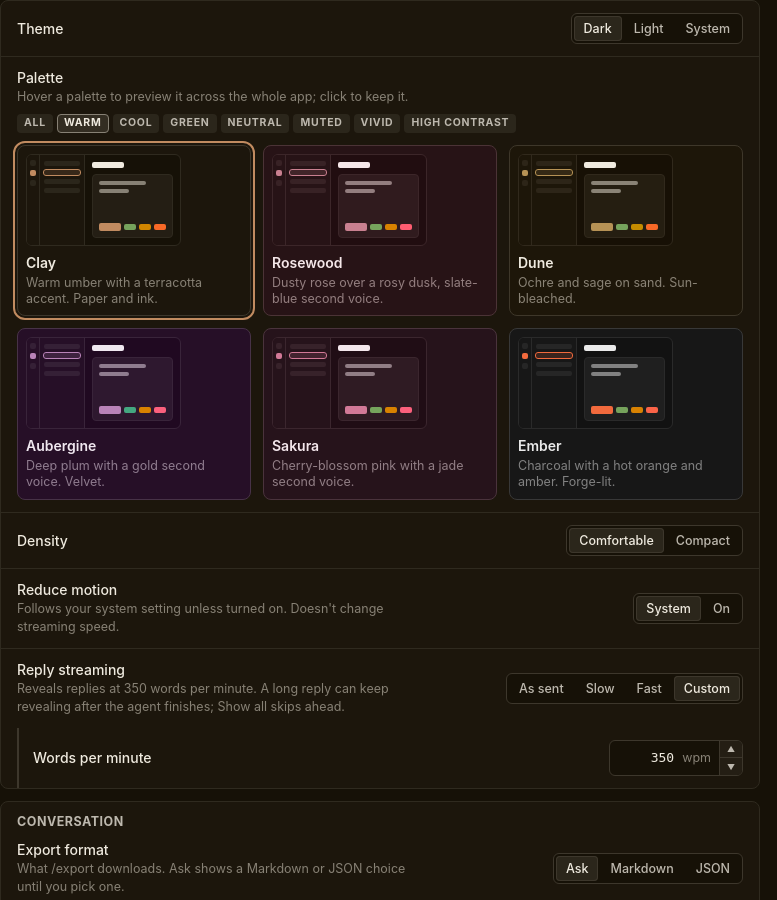
Test: AppearanceSection › saves a custom pace on blur, clamped to the contract's bounds
The width and height of the screenshot is (777, 900).
Step 1. Replace the text in the number field labelled "Words per minute" with "5000" → (646, 758), box [610, 741, 682, 775]
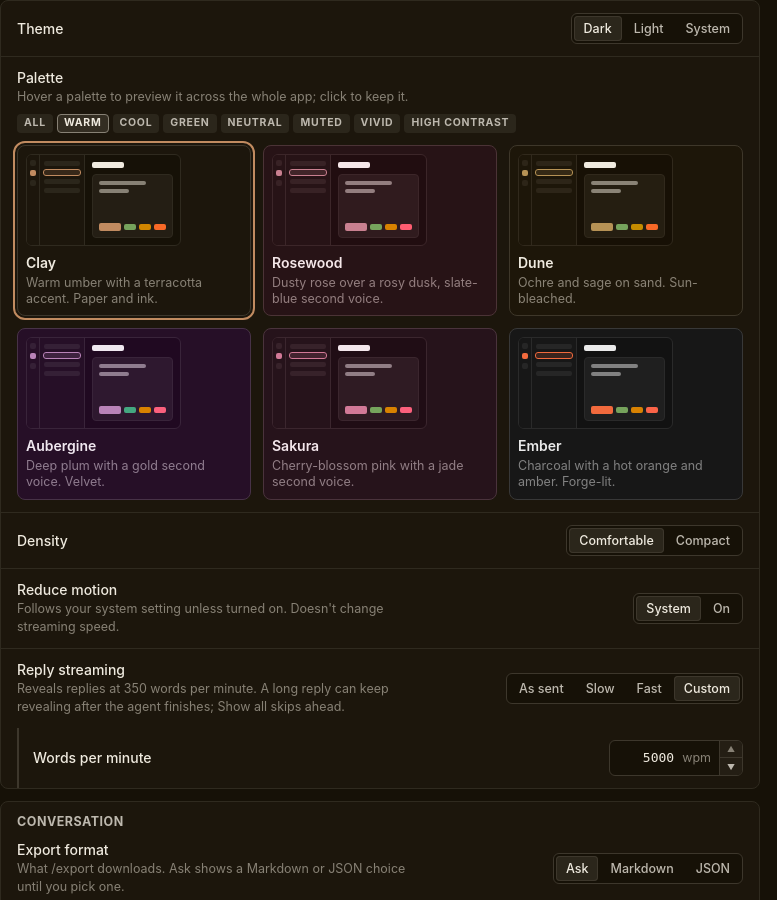
Step 2. Leave the number field labelled "Words per minute", box [610, 741, 682, 775]
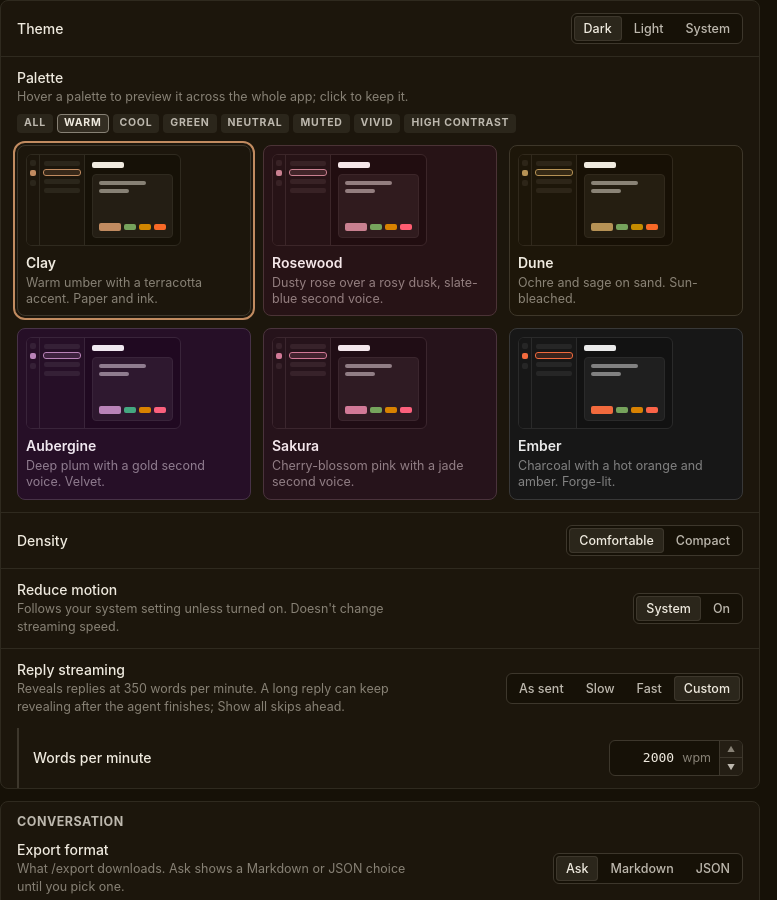
Check: the number field labelled "Words per minute" holds "2000", box [610, 741, 682, 775]
